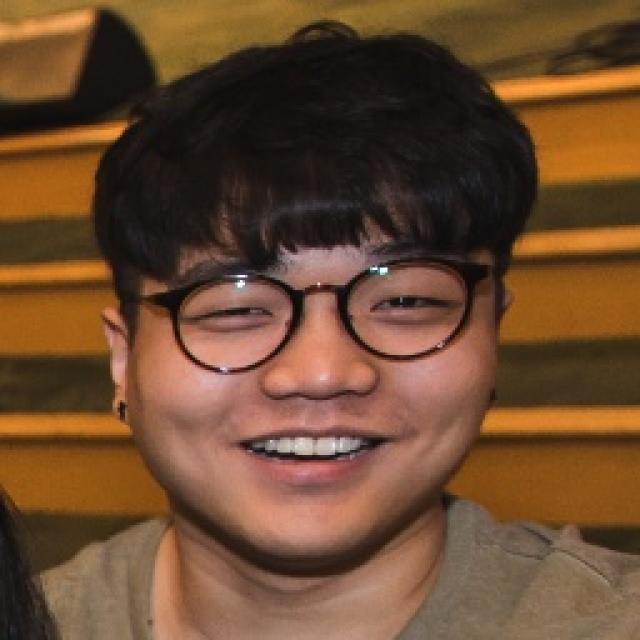earlobe: (112, 378, 132, 423)
eye: (371, 292, 452, 318), (193, 304, 272, 328)
nose: (256, 384, 381, 429)
wholeear: (100, 306, 132, 423)
